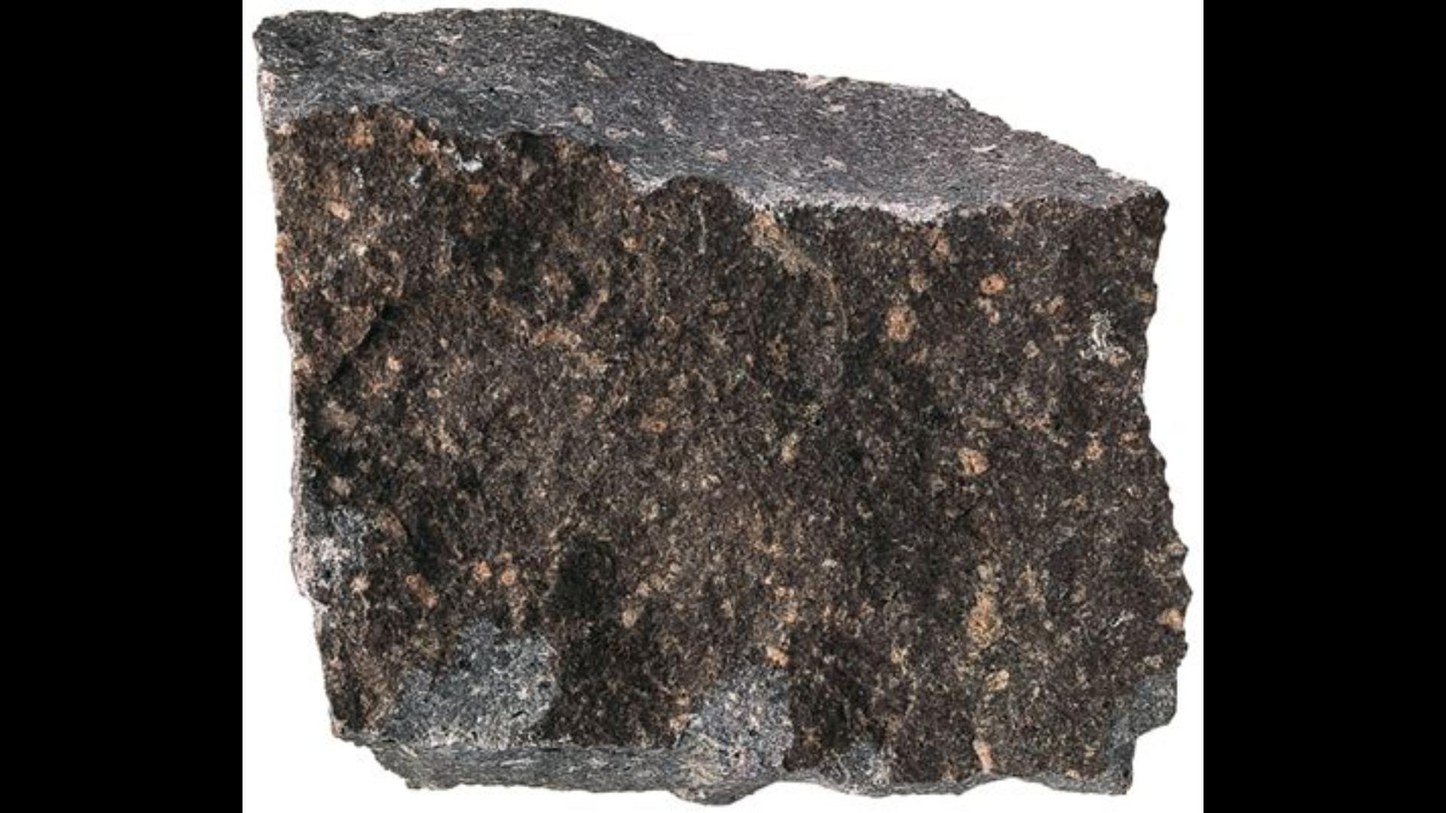rock: (263, 16, 1188, 787)
